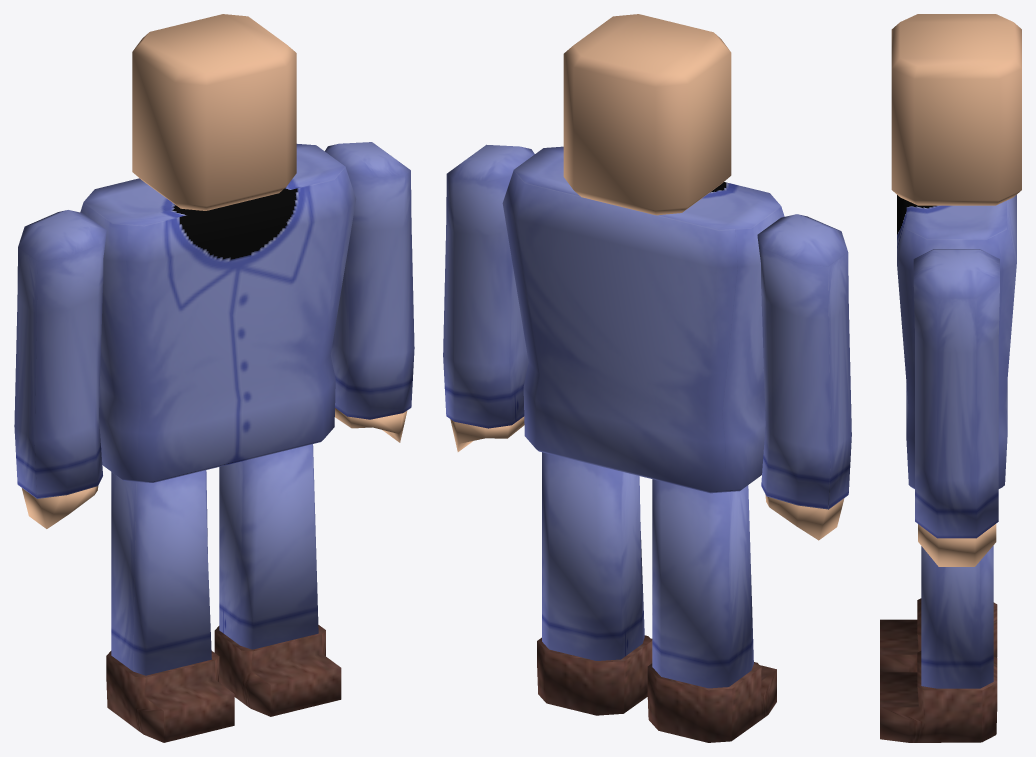
The model's file is baseCharacter.glb.
The picture shows the model from 3 angles, left to right: view 1: azimuth 30°, elevation 25°; view 2: azimuth 150°, elevation 25°; view 3: azimuth 270°, elevation 25°; orthographic projection. The views are drawn at different scales.
Visible parts, largest first — view 1: torso, head, rightLeg, leftLeg, rightArm, leftArm; view 2: torso, head, rightLeg, rightArm, leftLeg, leftArm; view 3: leftArm, head, leftLeg, torso, rightLeg.
Boxes of the visible parts, <box> form: torso: <box>80,144,356,482</box>; head: <box>132,14,296,210</box>; rightLeg: <box>106,470,234,742</box>; leftLeg: <box>214,444,341,716</box>; rightArm: <box>14,210,106,528</box>; leftArm: <box>325,142,414,442</box>; torso: <box>502,146,784,493</box>; head: <box>563,14,731,215</box>; rightLeg: <box>647,479,776,742</box>; rightArm: <box>757,214,851,540</box>; leftLeg: <box>537,452,652,715</box>; leftArm: <box>443,144,534,451</box>; leftArm: <box>913,249,999,566</box>; head: <box>891,14,1021,205</box>; leftLeg: <box>880,545,997,742</box>; torso: <box>897,195,1016,488</box>; rightLeg: <box>880,598,997,672</box>.
Size of the model in its own units: 1.13 by 1.85 by 0.3621.
Materials: 1 (1 with a texture image).
